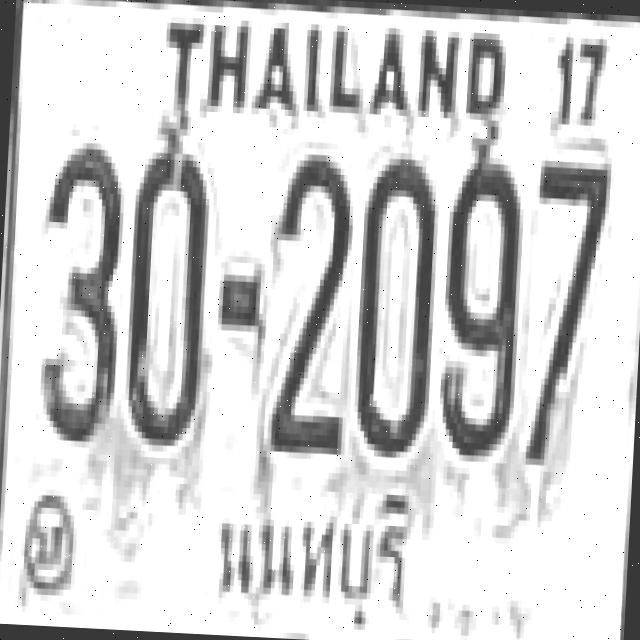0: (121, 140, 211, 442), (352, 152, 438, 454)
2: (267, 150, 353, 452)
3: (34, 138, 124, 440)
7: (524, 154, 610, 462)
9: (437, 153, 523, 454)
Nonthaburi: (206, 472, 422, 632)
